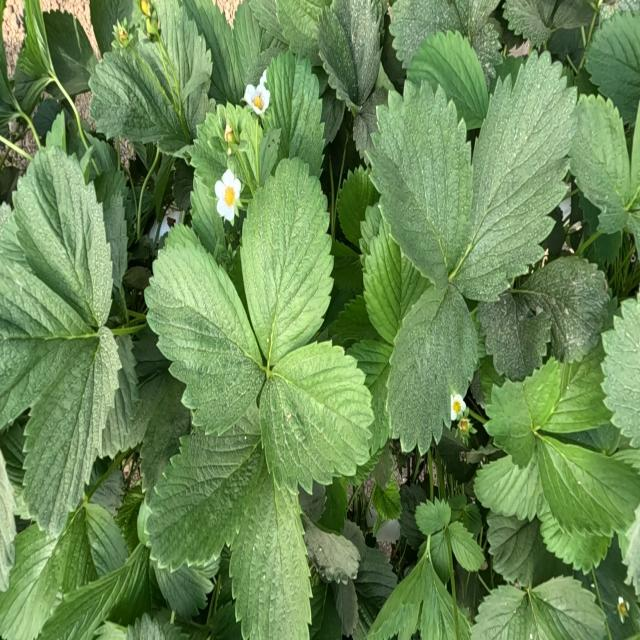Flowers: (214, 171, 241, 222), (449, 394, 467, 419)
Leaves: (465, 51, 577, 296), (146, 241, 263, 433), (367, 83, 471, 292), (24, 327, 121, 536), (242, 161, 331, 361), (14, 148, 111, 326), (146, 419, 263, 565), (260, 341, 372, 491), (0, 254, 87, 428), (388, 286, 479, 451), (231, 473, 311, 638), (38, 541, 164, 639), (1, 512, 89, 638), (535, 431, 637, 537), (89, 46, 186, 151), (329, 295, 391, 452), (521, 256, 614, 360), (361, 220, 430, 345), (485, 358, 562, 467), (569, 95, 631, 229), (129, 368, 191, 497), (408, 31, 488, 128), (263, 52, 323, 175), (480, 290, 549, 379), (584, 10, 639, 121), (543, 346, 610, 433), (183, 0, 240, 102), (367, 554, 433, 639), (601, 300, 639, 446), (335, 0, 382, 105), (530, 575, 606, 639), (318, 8, 363, 111), (390, 0, 461, 65), (43, 10, 94, 95), (474, 456, 541, 519), (419, 563, 470, 639), (487, 513, 543, 582), (303, 516, 360, 583), (471, 585, 536, 639), (276, 0, 330, 65), (151, 558, 212, 615), (99, 169, 127, 287), (13, 30, 50, 116), (337, 167, 377, 246), (191, 174, 225, 258), (232, 1, 261, 95), (503, 0, 555, 47), (353, 88, 387, 157), (90, 1, 134, 54), (24, 0, 52, 74), (125, 611, 188, 639), (448, 521, 483, 571), (334, 580, 358, 635), (248, 0, 281, 40), (416, 499, 450, 535), (32, 98, 61, 136)
Strawberries: (141, 0, 150, 15)
